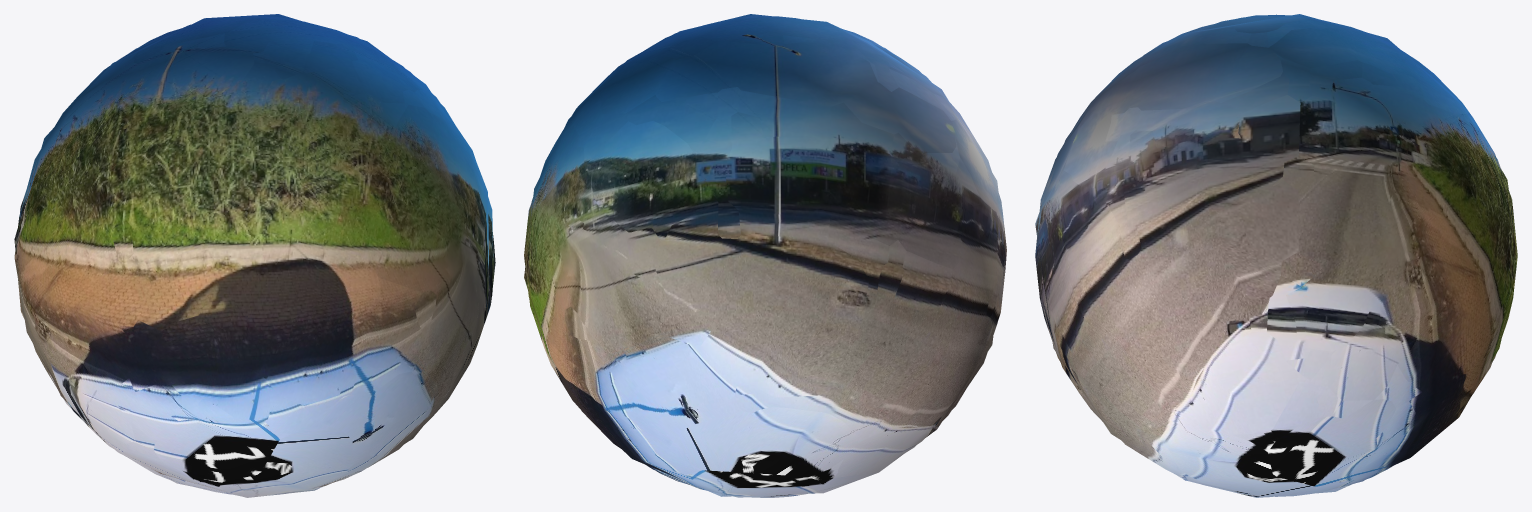
Rendered from __lods__Overtaking-8.glb.
3 renders of one model, left to right at view 1: azimuth 30°, elevation 25°; view 2: azimuth 150°, elevation 25°; view 3: azimuth 270°, elevation 25°, orthographic.
Parts seen in each view (by area): view 1: __LOD_2__Sphere, __LOD_1__Sphere, __LOD_0__Sphere; view 2: __LOD_2__Sphere, __LOD_1__Sphere, __LOD_0__Sphere; view 3: __LOD_2__Sphere, __LOD_1__Sphere, __LOD_0__Sphere.
Part boxes in pixels (x1,y1,x2,y2): __LOD_2__Sphere: (14,14,489,497); __LOD_1__Sphere: (14,15,493,496); __LOD_0__Sphere: (16,16,495,494); __LOD_2__Sphere: (524,14,998,496); __LOD_1__Sphere: (524,15,1006,497); __LOD_0__Sphere: (525,16,1006,497); __LOD_2__Sphere: (1035,14,1517,497); __LOD_1__Sphere: (1035,15,1517,497); __LOD_0__Sphere: (1035,14,1517,496).
Bounding box in the file's own units: 2 × 2 × 2.
Materials: 1 (1 with a texture image).
